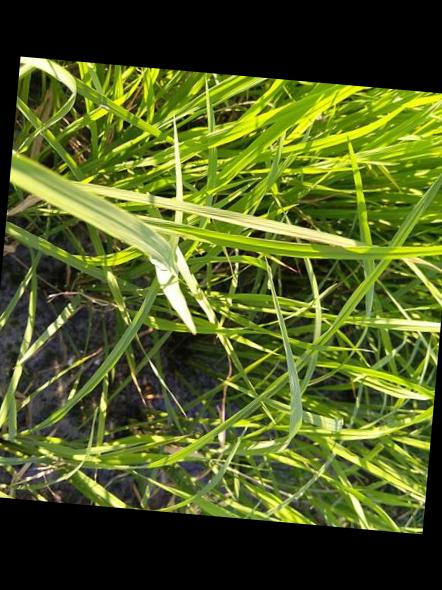Leaf Streak: (89, 182, 364, 247)
